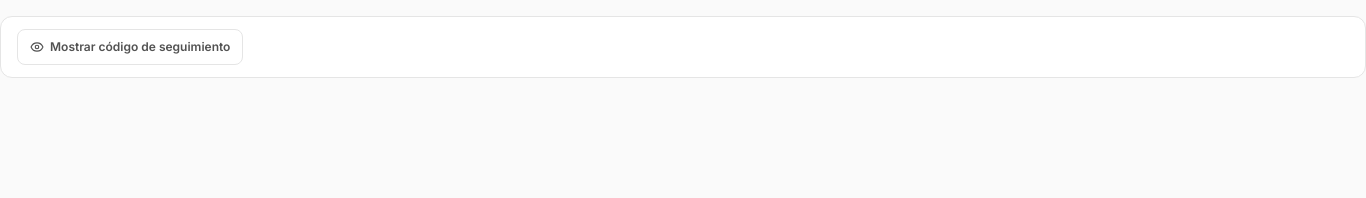
Test: recuperación privada del código › only fetches on demand, uses UUID, copies the exact code and forgets it on hide
Click the button "Mostrar código de seguimiento".
click(130, 47)  # box 17,29 -> 243,65
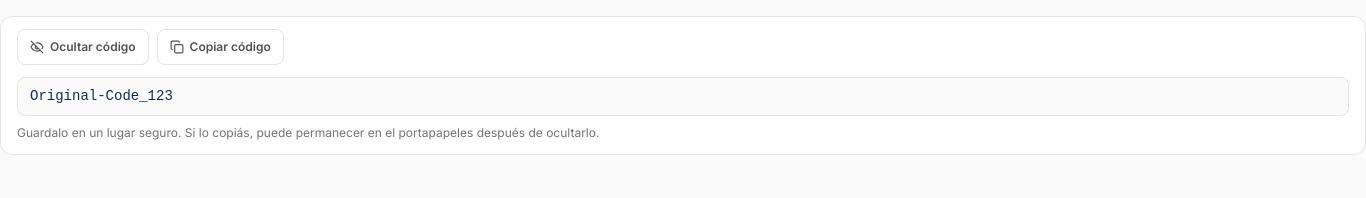
Expected: the text "Original-Code_123" is shown, 17,77 -> 1349,116
Click the button "Copiar código".
click(220, 47)  # box 157,29 -> 284,65
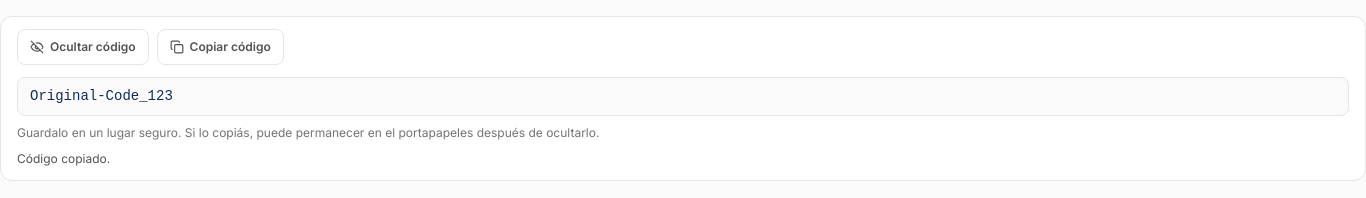
Expected: the text "Código copiado." is shown, 17,151 -> 110,166
Click the button "Ocultar código".
click(83, 47)  # box 17,29 -> 149,65
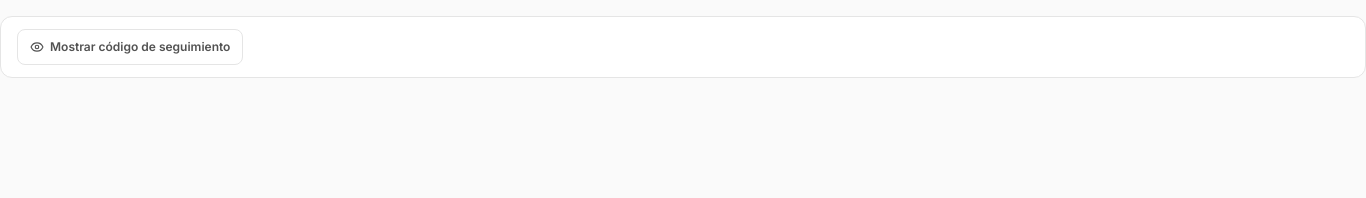
Expected: the text "Original-Code_123" is gone
Expected: the text "Código copiado." is gone
Click the button "Mostrar código de seguimiento".
click(130, 47)  # box 17,29 -> 243,65
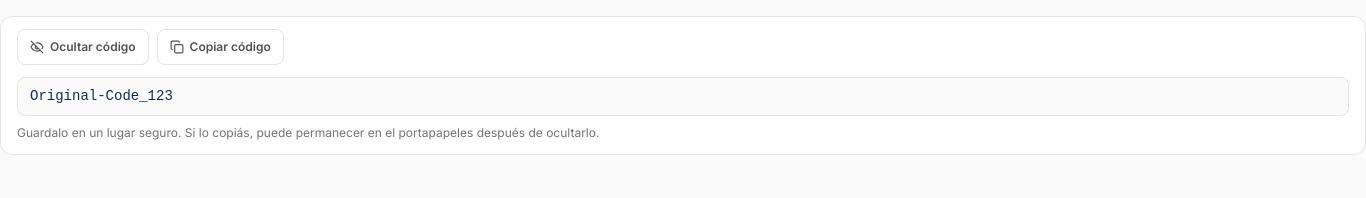
Expected: the text "Original-Code_123" is shown, 17,77 -> 1349,116
